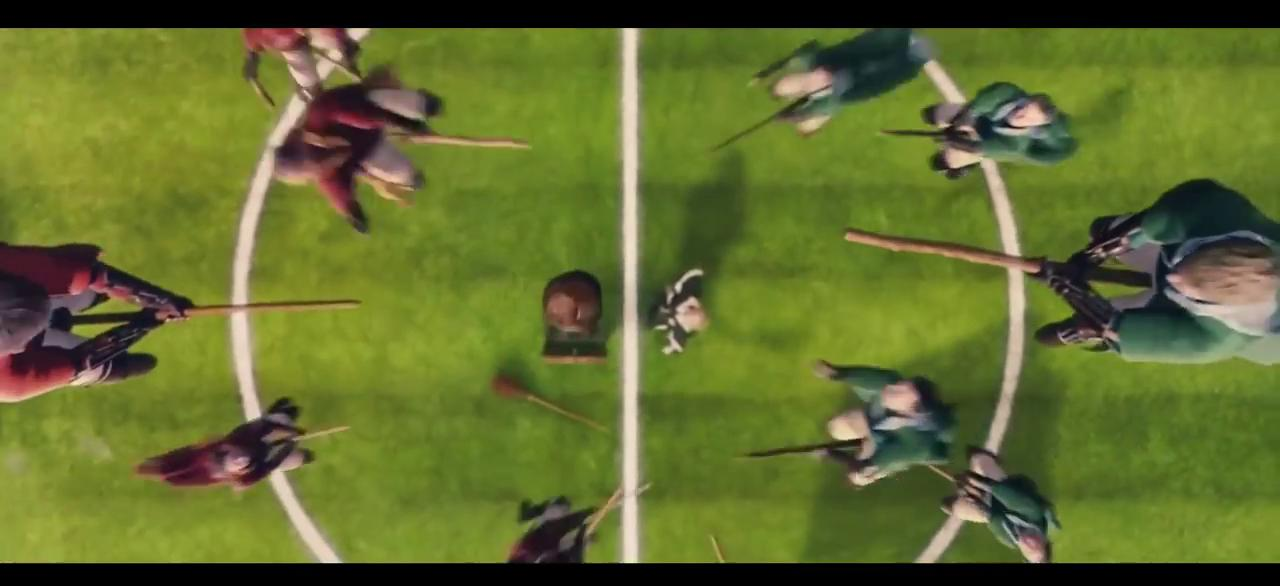quaffle: (542, 265, 605, 336)
